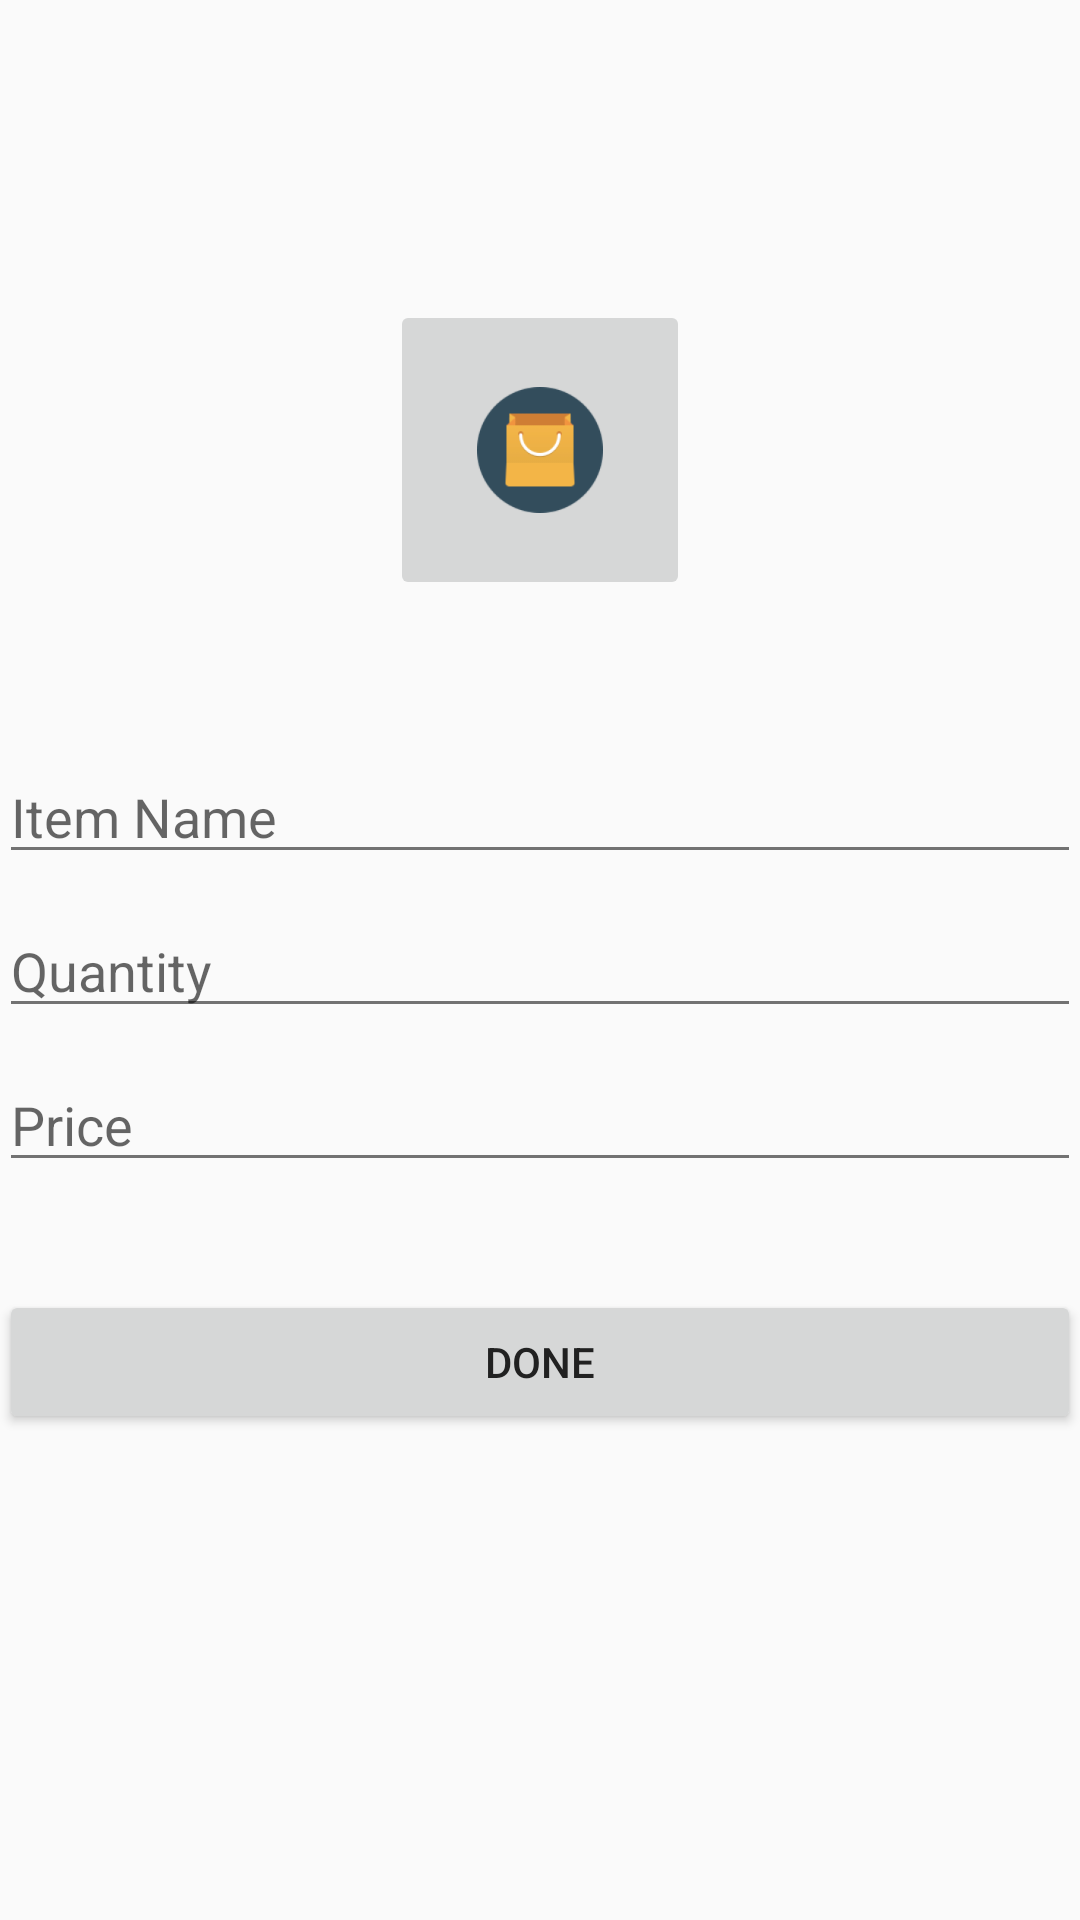

Locate icon controls on the screen. Image size 1080*1920, boxes as box=[x1, y1, x2, y2].
bag: box=[402, 318, 678, 582]
